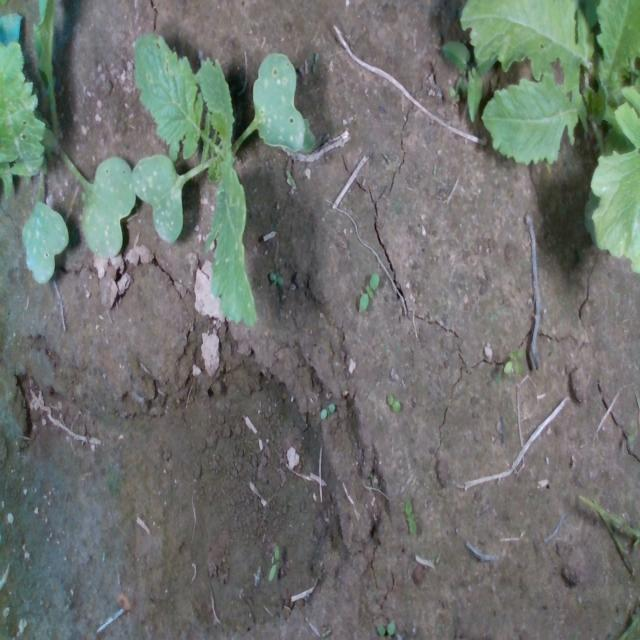weed: (357, 270, 379, 312), (268, 542, 280, 582), (404, 499, 417, 535), (385, 392, 401, 413), (375, 620, 395, 636), (319, 401, 335, 420), (268, 270, 284, 286), (284, 169, 296, 189)
